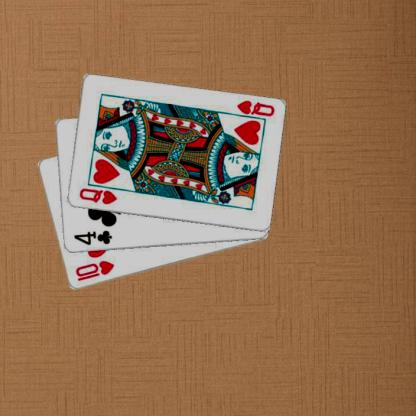10H: (73, 258, 115, 282)
4C: (71, 228, 113, 247)
QH: (228, 98, 275, 122), (76, 186, 118, 206)
